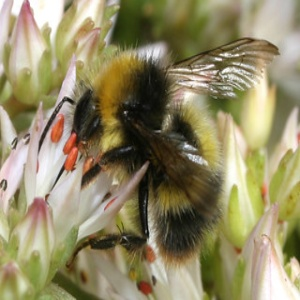bee: (68, 36, 283, 256)
